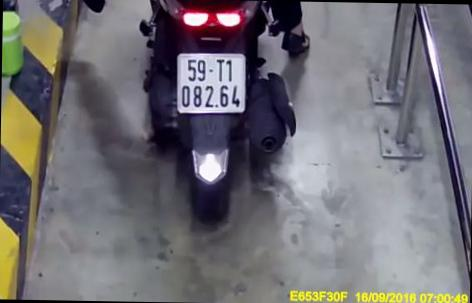LP: (174, 50, 248, 116)
